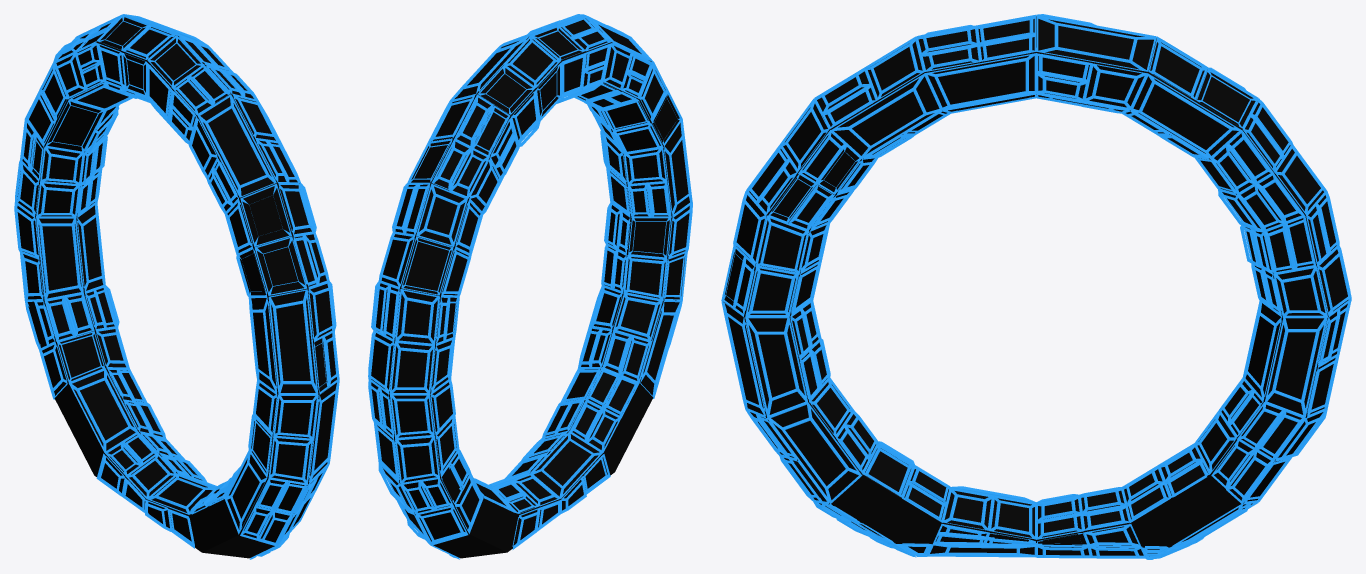
Rendered from Portal_Teal.glb.
3 renders of one model, left to right at view 1: azimuth 30°, elevation 25°; view 2: azimuth 150°, elevation 25°; view 3: azimuth 270°, elevation 25°, orthographic. The views are drawn at different scales.
Visible parts, largest first — view 1: discombobulated_mesh.002; view 2: discombobulated_mesh.002; view 3: discombobulated_mesh.002.
Part boxes in pixels (x1=…): discombobulated_mesh.002: x1=14, y1=14, x2=339, y2=559; discombobulated_mesh.002: x1=368, y1=14, x2=692, y2=559; discombobulated_mesh.002: x1=721, y1=14, x2=1351, y2=559.
Bounding box in the file's own units: 0.5087 × 3.3 × 3.56.
